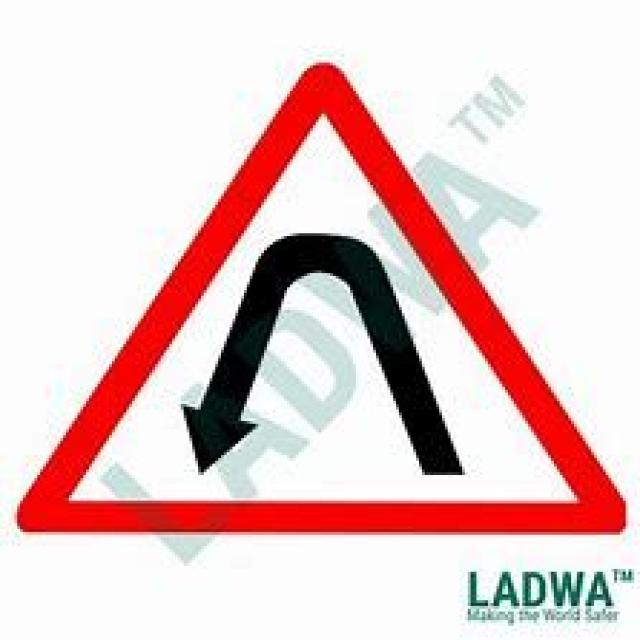LEFT_HAIR_PIN_BEND: (13, 60, 628, 537)
